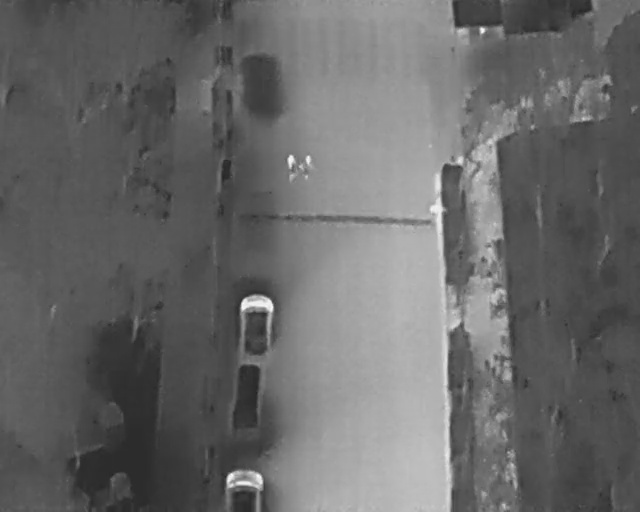Car: (226, 359, 264, 432), (238, 292, 275, 360), (222, 468, 263, 510)
Person: (285, 154, 298, 185), (299, 155, 314, 179)
